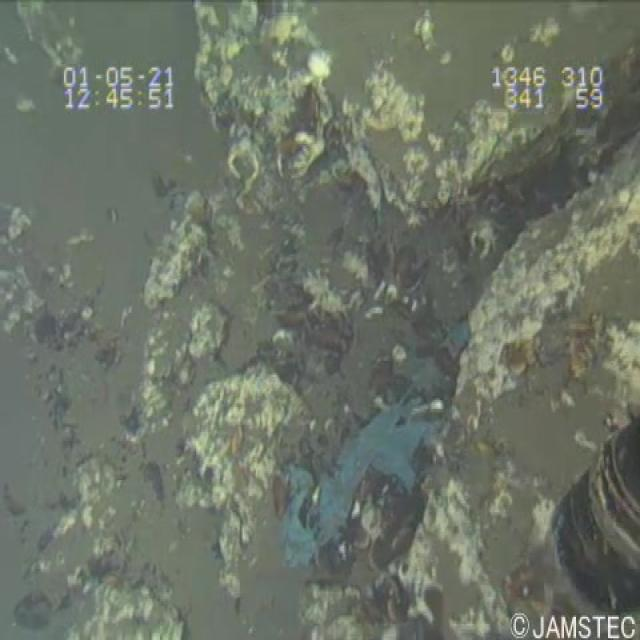plastic: (268, 320, 476, 578)
